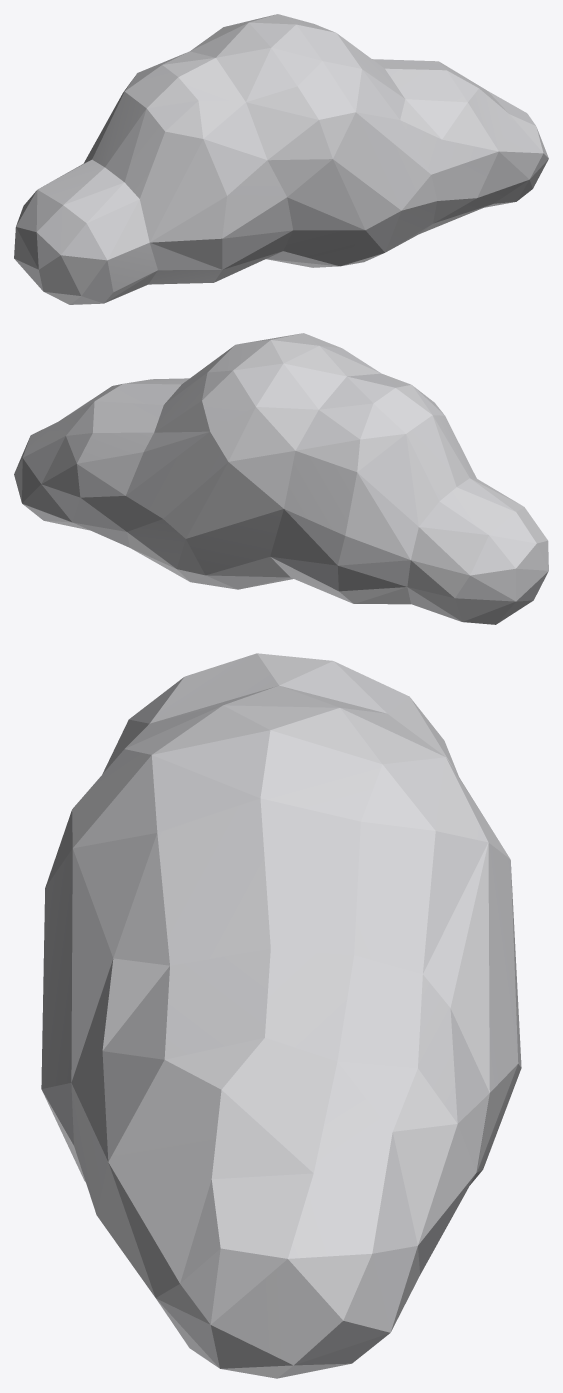
File: small_cloud_20.fbx
The picture shows the model from 3 angles, top to bottom: view 1: azimuth 30°, elevation 25°; view 2: azimuth 150°, elevation 25°; view 3: azimuth 270°, elevation 25°; orthographic projection. The views are drawn at different scales.
Visible parts, largest first — view 1: cloud_20; view 2: cloud_20; view 3: cloud_20.
Boxes of the visible parts, x1,y1,x2,y2 form: cloud_20: (14, 14, 548, 304); cloud_20: (14, 333, 548, 624); cloud_20: (41, 653, 521, 1378).
Bounding box in the file's own units: 531 × 240 × 218.
